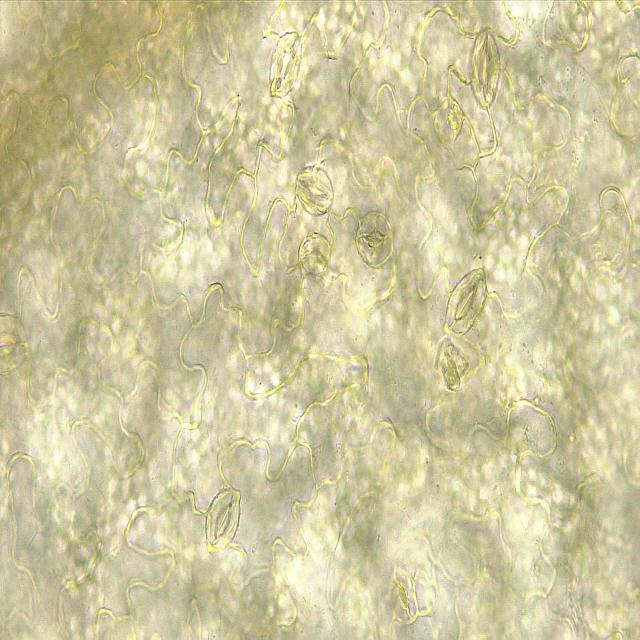Stomata: (444, 264, 488, 338), (469, 27, 502, 109), (204, 484, 242, 552), (268, 30, 304, 101), (354, 212, 394, 269), (294, 164, 334, 216), (389, 567, 420, 624)
